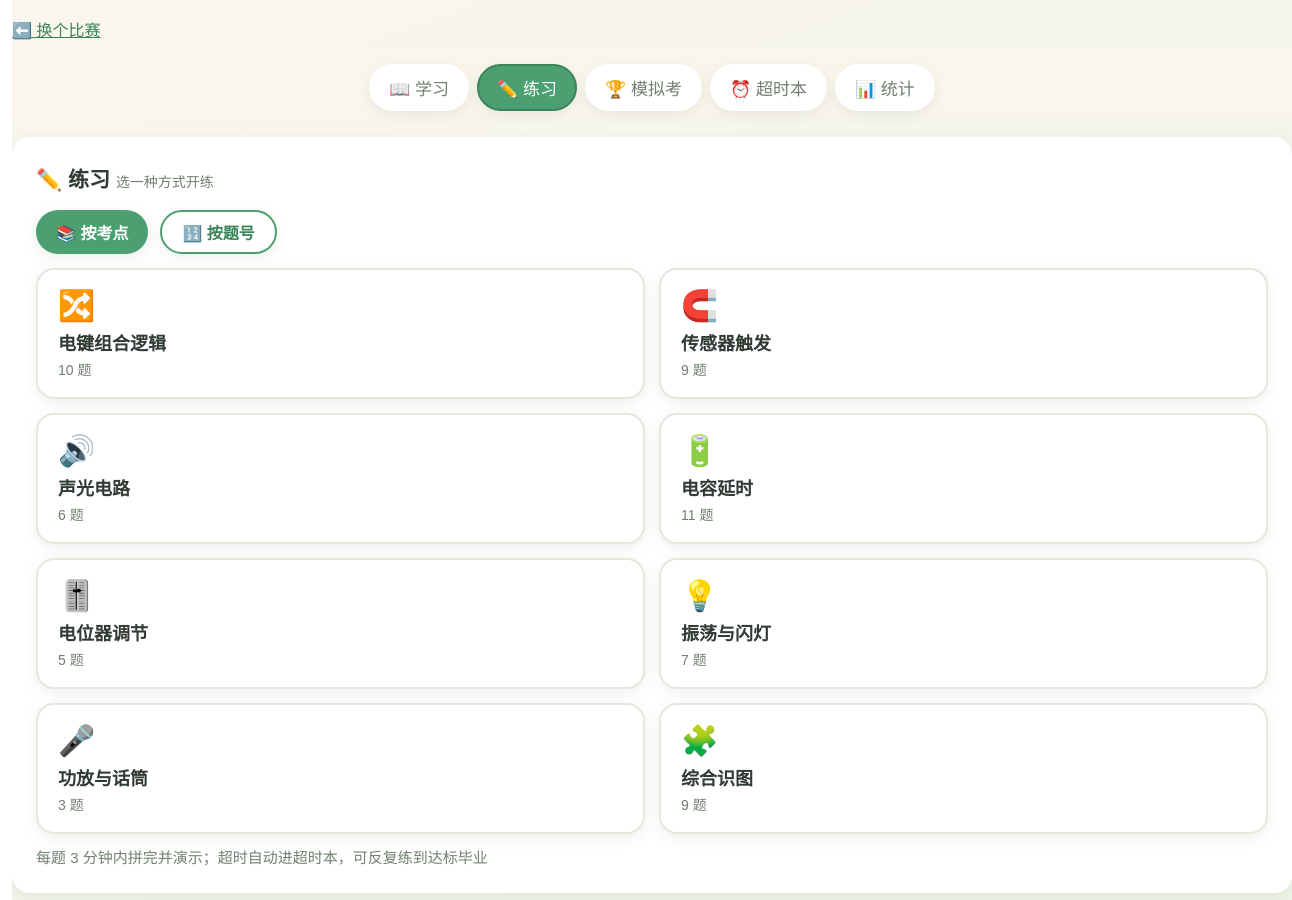
Test: chip 模块交互流 › 练习：题号范围非法时开始按钮禁用
This screenshot has width=1292, height=900.
Click the button "🔢 按题号": (219, 232) [160,210,277,254]
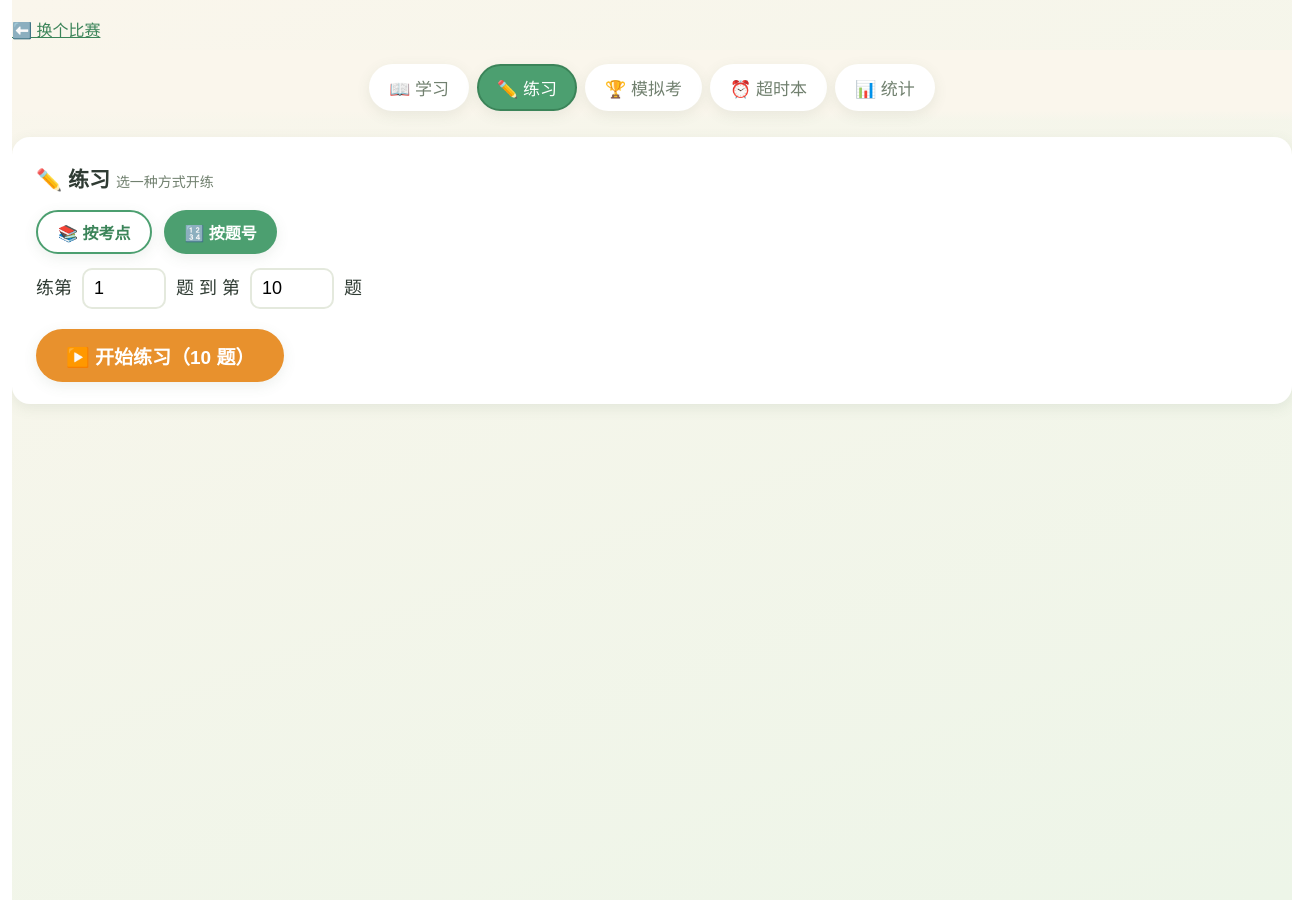
Replace the text in the number field named "起始题号" with "5": (124, 288) [82,268,166,309]
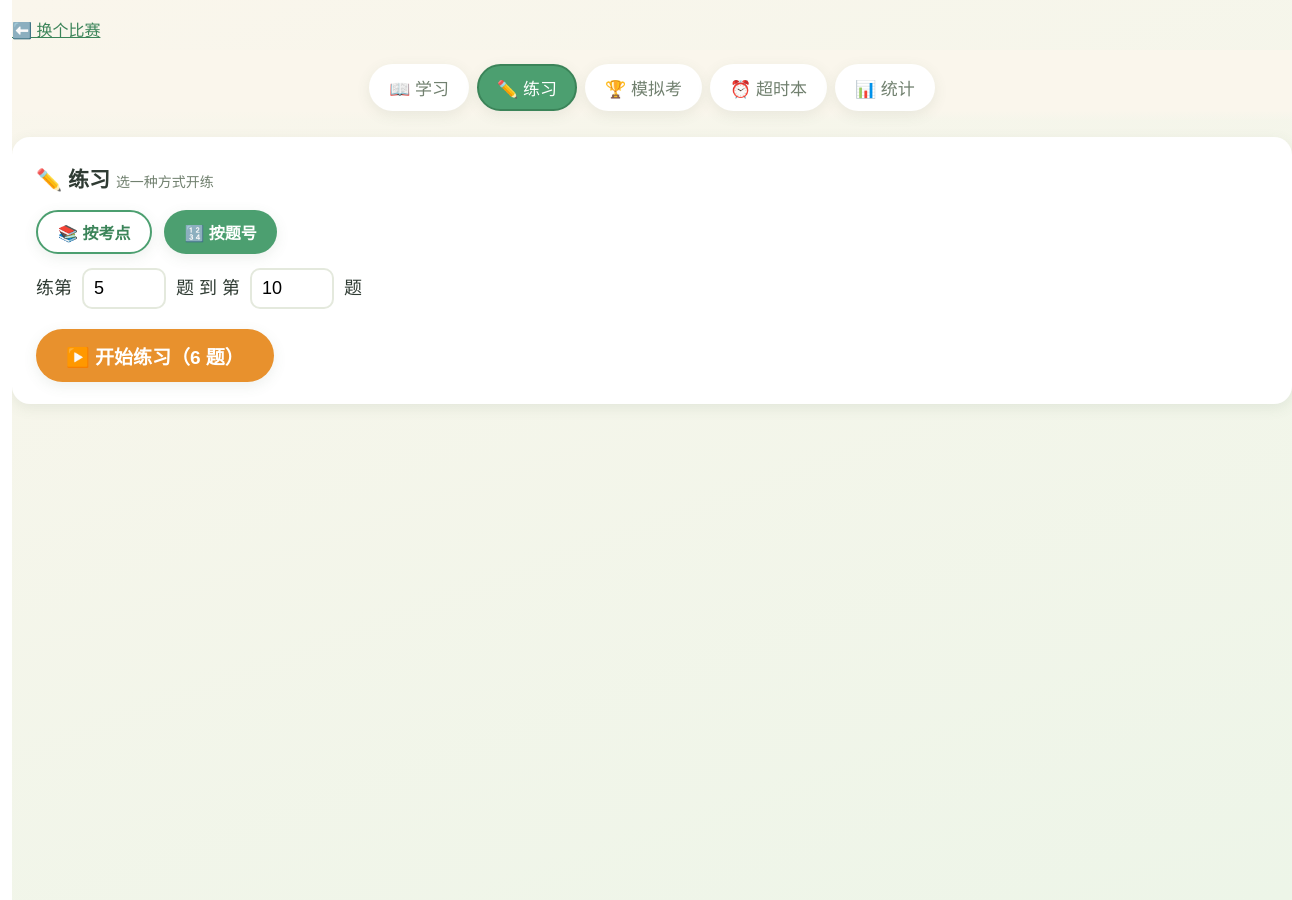
Replace the text in the number field named "结束题号" with "3": (292, 288) [250,268,334,309]
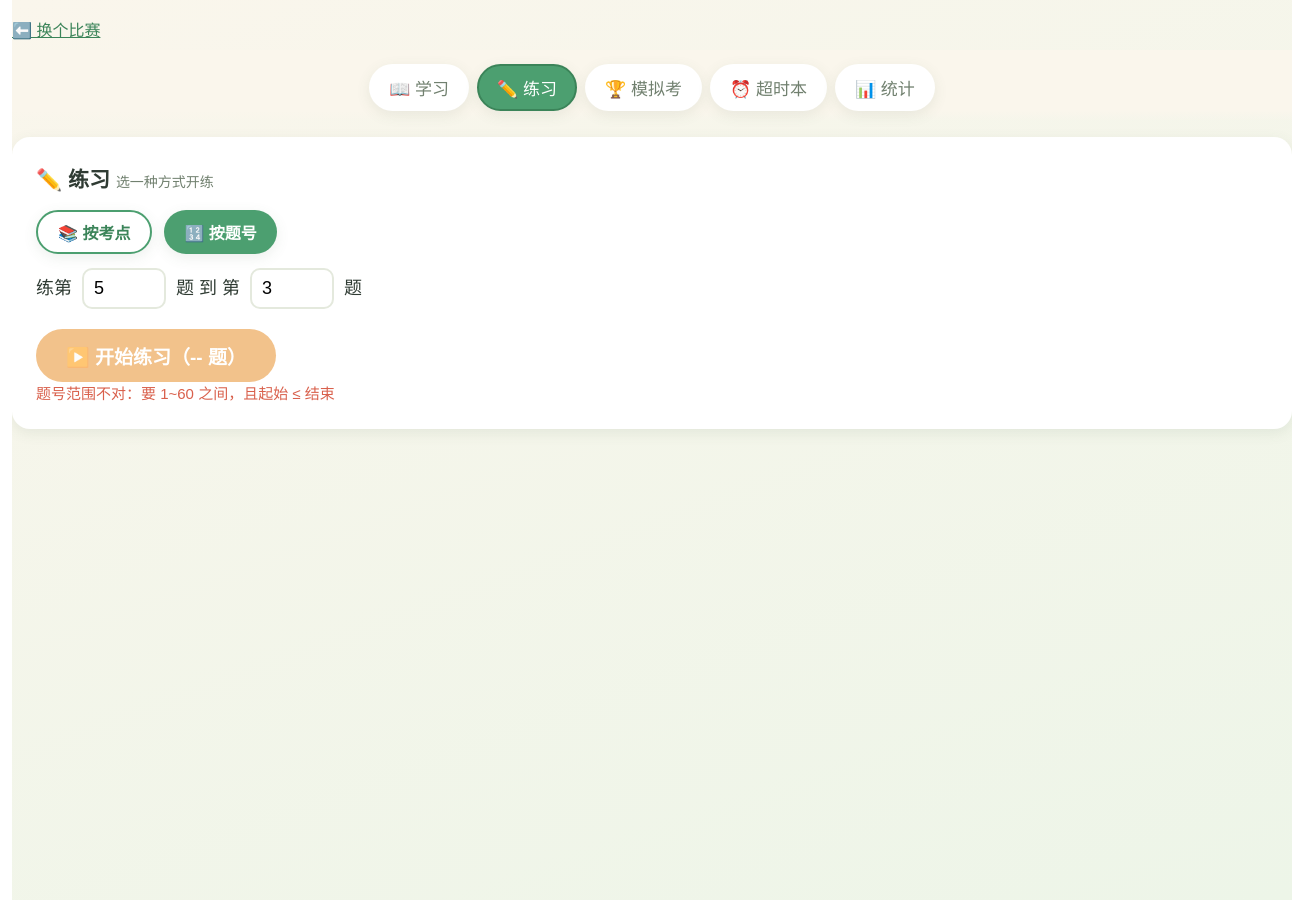
Expected: the button "▶️ 开始练习（-- 题）" is disabled, [36,329,276,382]
